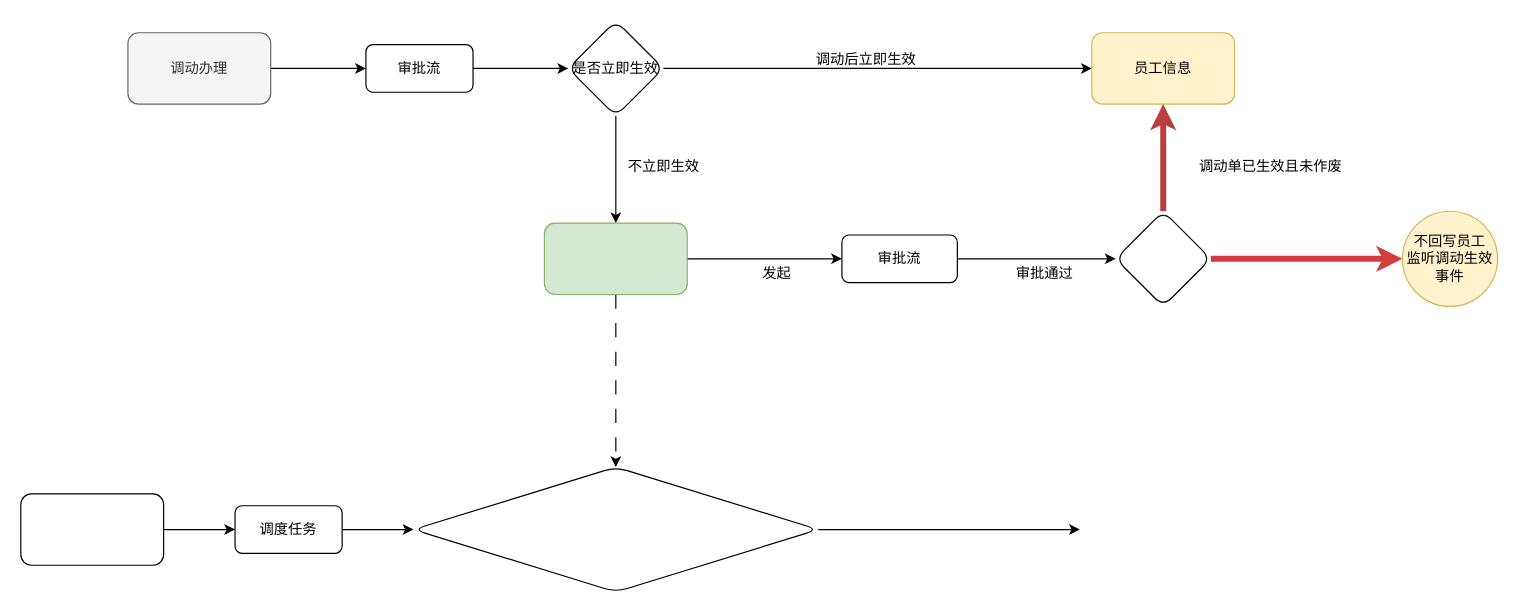
Some shapes in this 1518 by 613 pixel diagram are drawn without their labels. Each missing label, with the box of its shape:
合同变更: (543, 222, 687, 295)
合同续签: (20, 493, 164, 565)
校验合同变更中是否存在待生效且调动办理未废弃的数据: (412, 466, 818, 592)
调动单是否生效: (1114, 210, 1211, 306)
